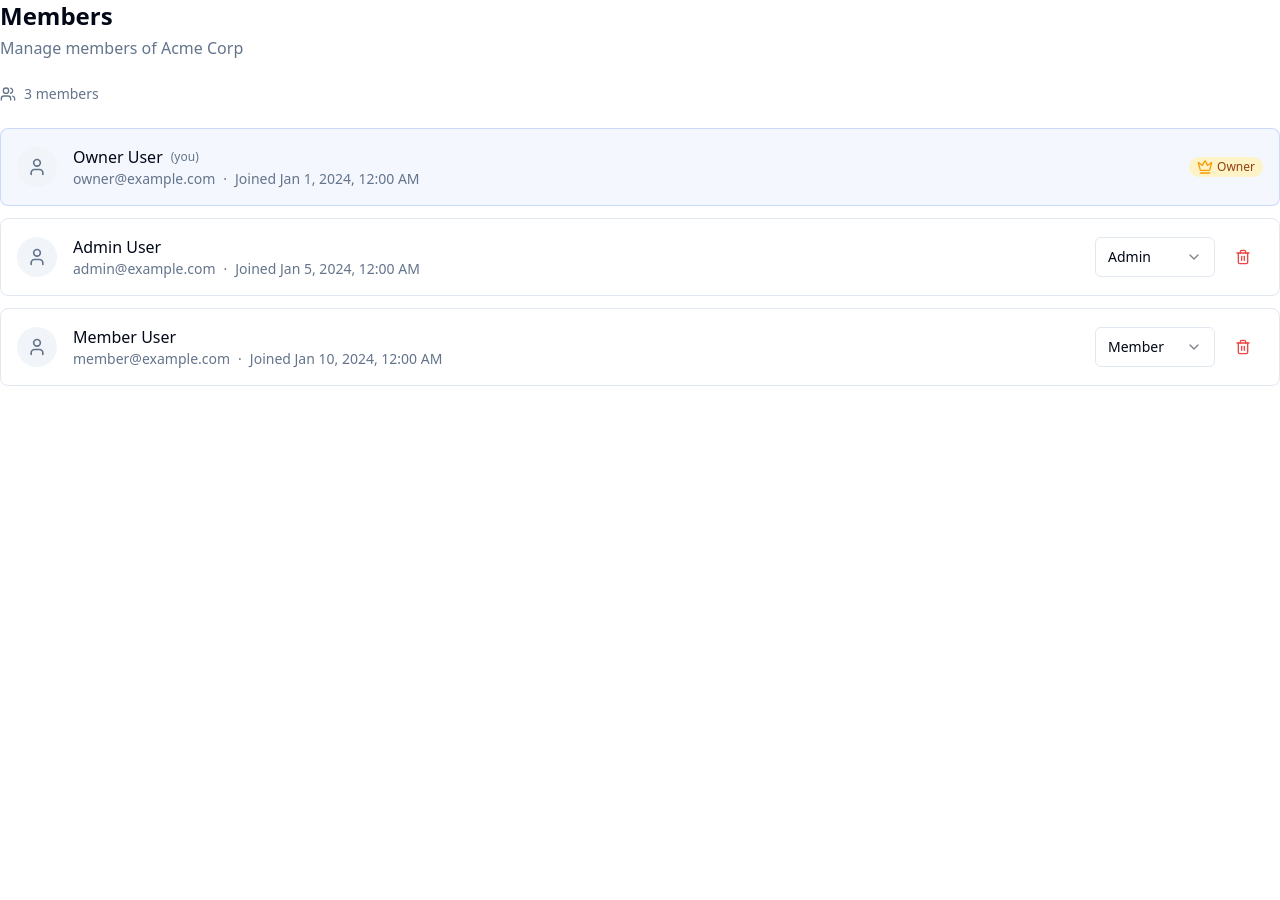
Scenario: MembersPage › should show remove confirmation dialog when remove is clicked
This screenshot has width=1280, height=900.
Click the button named "Remove Member User" at (1243, 347), box [1223,327,1263,367]
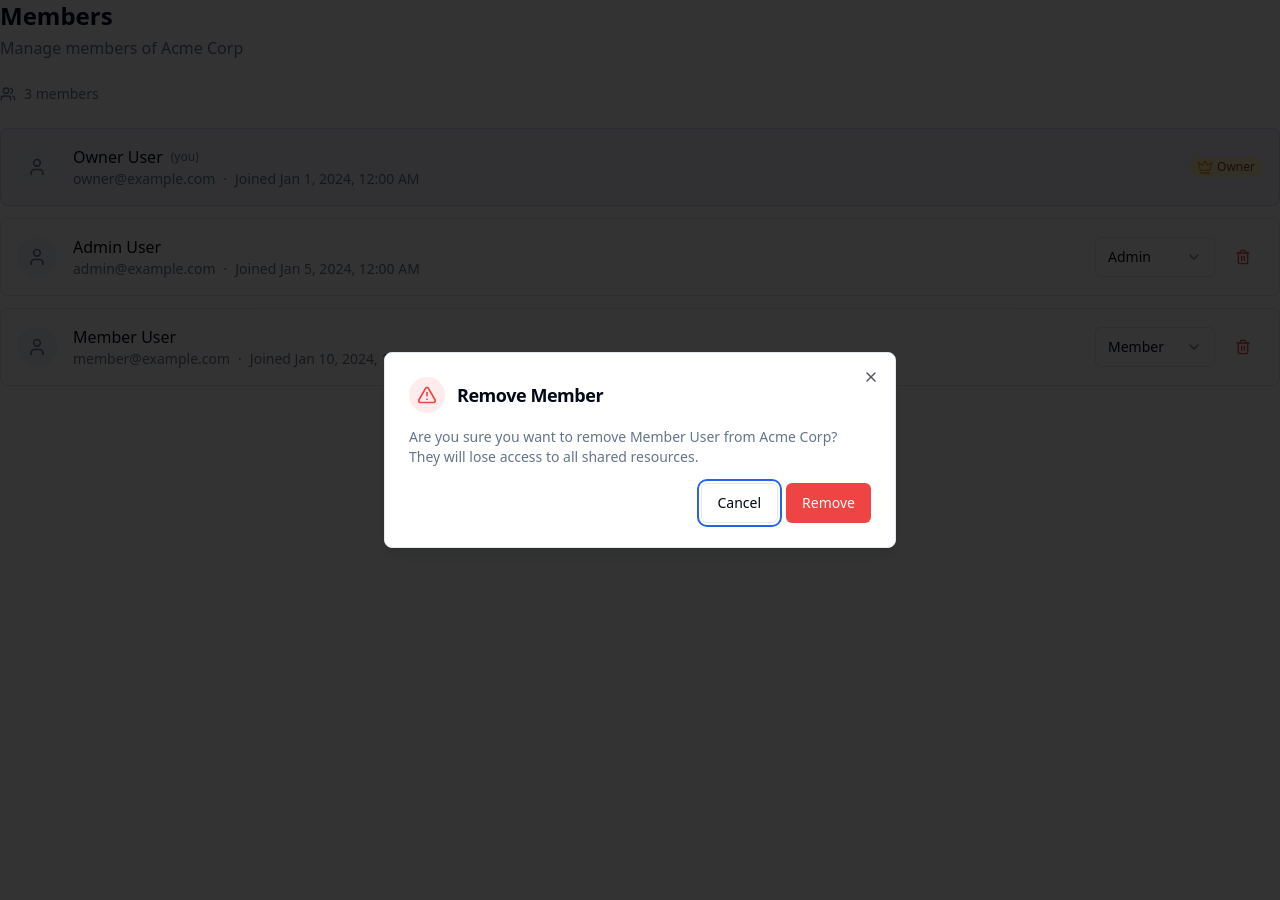
Expected: the heading "Remove Member" is shown, [457,386,603,404]
Expected: the text "Are you sure you want to remove Member User" is shown, [409,427,837,466]
